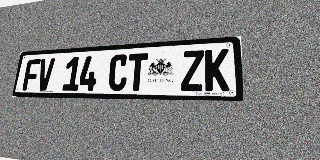1: (62, 57, 82, 91)
4: (78, 56, 99, 91)
C: (107, 54, 129, 91)
F: (22, 59, 41, 91)
K: (205, 48, 229, 91)
T: (126, 53, 148, 91)
V: (36, 58, 55, 91)
Z: (181, 50, 204, 91)
